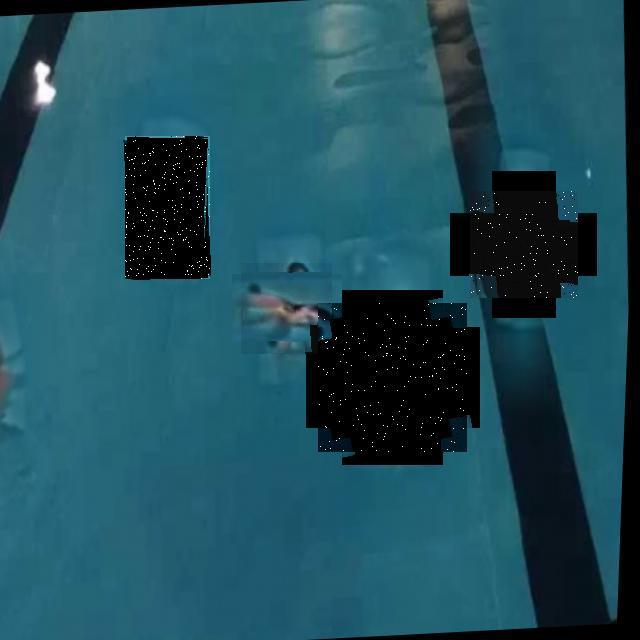swimming: (318, 303, 467, 452), (125, 136, 210, 279), (470, 191, 578, 298), (241, 263, 332, 354)
